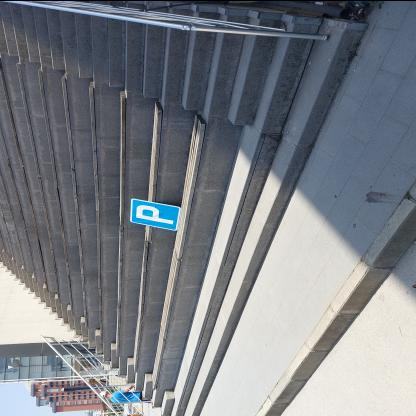Parking-Sign: (131, 199, 183, 231)
